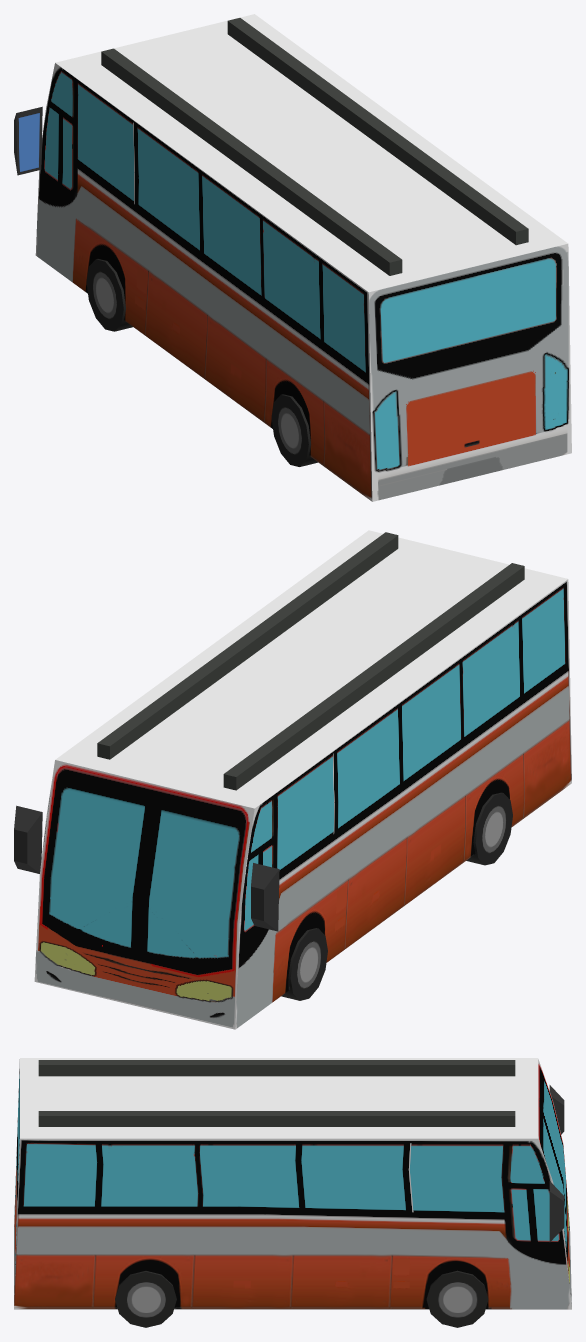
Rendered from bus.glb.
3 views of the same model, one above another, from view 1: azimuth 30°, elevation 25°; view 2: azimuth 150°, elevation 25°; view 3: azimuth 270°, elevation 25° (orthographic). The views are drawn at different scales.
Visible parts, largest first — view 1: w, w.001, w.002, taxi.004, taxi.001, mr2.002; view 2: w, w.001, w.002, taxi.001, taxi.004, mr2.002, mr2.001; view 3: w, w.002, w.001, taxi.002, taxi.003, mr2.001, mr2.002.
Part boxes in pixels (<box>): w: <box>35,14,571,501</box>; w.001: <box>227,18,528,245</box>; w.002: <box>101,48,402,275</box>; taxi.004: <box>86,259,132,331</box>; taxi.001: <box>271,394,317,466</box>; mr2.002: <box>14,106,42,175</box>; w: <box>34,530,571,1029</box>; w.001: <box>97,532,398,759</box>; w.002: <box>223,563,524,790</box>; taxi.001: <box>466,792,512,865</box>; taxi.004: <box>281,928,327,1000</box>; mr2.002: <box>251,863,279,931</box>; mr2.001: <box>14,805,42,873</box>; w: <box>14,1058,571,1309</box>; w.002: <box>38,1060,515,1076</box>; w.001: <box>38,1111,515,1126</box>; taxi.002: <box>426,1270,488,1327</box>; taxi.003: <box>115,1271,176,1327</box>; mr2.001: <box>549,1181,564,1242</box>; mr2.002: <box>549,1085,564,1134</box>.
Size of the model in its own units: 4.03 by 3.52 by 8.94.
7 materials, 7 textured.
